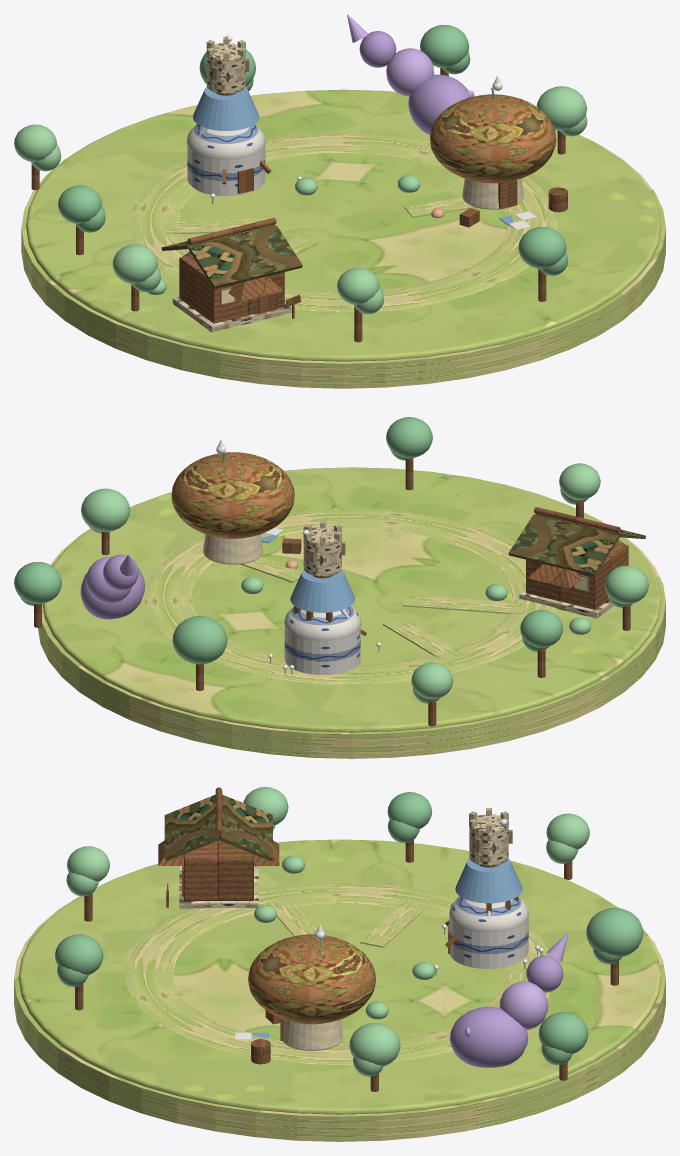
Rendered from village_textured.glb.
The picture shows the model from 3 angles, top to bottom: view 1: azimuth 30°, elevation 25°; view 2: azimuth 150°, elevation 25°; view 3: azimuth 270°, elevation 25°; orthographic projection. The views are drawn at different scales.
Parts seen in each view (by area): view 1: terrain_grass, terrain_dirt, path_ring, mushroom_cap, cottage_roof_l, cottage_wall, tower_pot, tower_cauldron, tower_pot_shoulder, purple_b1, purple_b2, tower_stone (+14 smaller); view 2: terrain_grass, terrain_dirt, path_ring, mushroom_cap, cottage_roof_r, tower_pot, cottage_wall, tree_crown_6, tower_cauldron, tower_pot_shoulder, tree_crown_3, tree_crown_4 (+16 smaller); view 3: terrain_grass, terrain_dirt, path_ring, mushroom_cap, cottage_wall, purple_b1, tower_pot, cottage_roof_l, cottage_roof_r, tower_cauldron, tree_crown_6, tower_pot_shoulder (+17 smaller).
Boxes of the visible parts, bbox=[...] form: terrain_grass: bbox=[26, 89, 661, 361]; terrain_dirt: bbox=[21, 144, 665, 388]; path_ring: bbox=[131, 132, 556, 312]; mushroom_cap: bbox=[430, 94, 556, 183]; cottage_roof_l: bbox=[188, 225, 302, 288]; cottage_wall: bbox=[179, 254, 284, 323]; tower_pot: bbox=[187, 145, 265, 195]; tower_cauldron: bbox=[193, 87, 259, 130]; tower_pot_shoulder: bbox=[186, 124, 265, 159]; purple_b1: bbox=[408, 74, 469, 134]; purple_b2: bbox=[386, 48, 434, 96]; tower_stone: bbox=[206, 43, 245, 93]; terrain_grass: bbox=[42, 467, 661, 732]; terrain_dirt: bbox=[38, 519, 665, 758]; path_ring: bbox=[144, 509, 556, 684]; mushroom_cap: bbox=[171, 452, 294, 538]; cottage_roof_r: bbox=[508, 514, 619, 576]; tower_pot: bbox=[284, 626, 360, 674]; cottage_wall: bbox=[526, 542, 628, 609]; tree_crown_6: bbox=[172, 616, 227, 664]; tower_cauldron: bbox=[290, 569, 354, 612]; tower_pot_shoulder: bbox=[284, 606, 361, 640]; tree_crown_3: bbox=[81, 488, 130, 531]; tree_crown_4: bbox=[14, 562, 61, 603]; terrain_grass: bbox=[18, 839, 661, 1114]; terrain_dirt: bbox=[14, 894, 665, 1141]; path_ring: bbox=[124, 882, 550, 1064]; mushroom_cap: bbox=[248, 934, 375, 1024]; cottage_wall: bbox=[184, 835, 253, 900]; purple_b1: bbox=[449, 1006, 528, 1067]; tower_pot: bbox=[449, 916, 528, 969]; cottage_roof_l: bbox=[164, 794, 218, 861]; cottage_roof_r: bbox=[219, 794, 272, 861]; tower_cauldron: bbox=[455, 858, 522, 903]; tree_crown_6: bbox=[586, 908, 643, 957]; tower_pot_shoulder: bbox=[449, 896, 528, 932].
Size of the model in its own units: 28 by 7.96 by 28.
19 materials, 8 textured.
